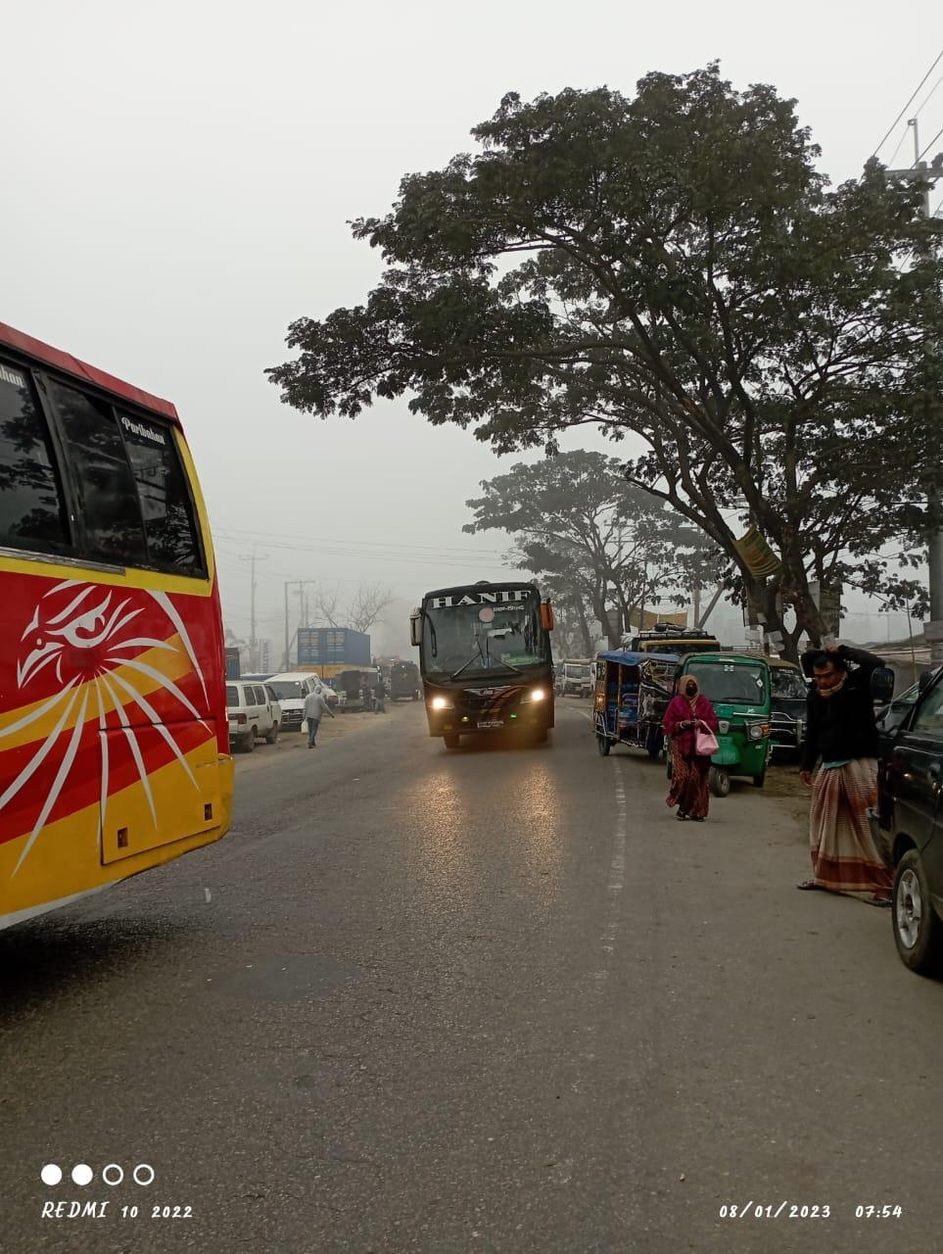Bus: (5, 298, 237, 906), (409, 571, 561, 748)
Car: (588, 640, 664, 756), (232, 677, 284, 751)
